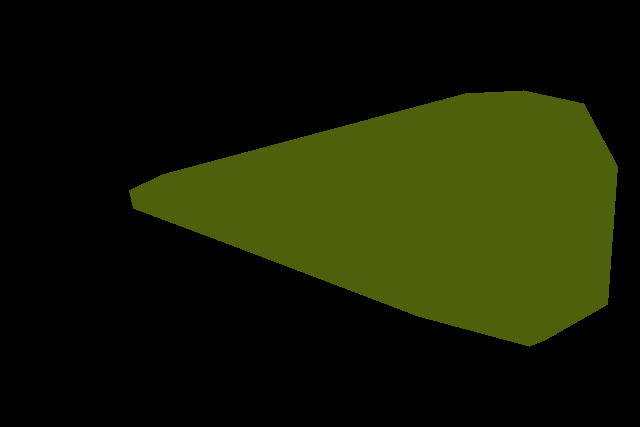Train: (129, 90, 617, 347)
